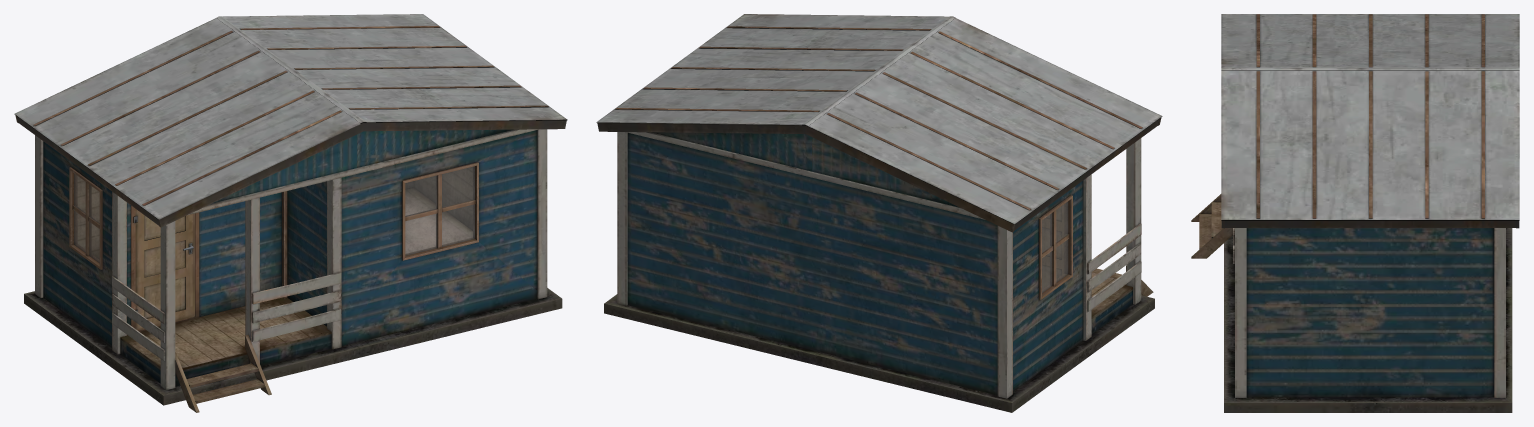
The model's file is shed_worn.glb.
3 views of the same model, side by side, from view 1: azimuth 30°, elevation 25°; view 2: azimuth 150°, elevation 25°; view 3: azimuth 270°, elevation 25° (orthographic). The views are drawn at different scales.
Parts seen in each view (by area): view 1: baked, clear; view 2: baked, clear; view 3: baked.
Boxes of the visible parts, left/top/right/bottom form: baked: left=14, top=14, right=567, bottom=412; clear: left=74, top=166, right=474, bottom=262; baked: left=596, top=14, right=1162, bottom=412; clear: left=1042, top=201, right=1068, bottom=293; baked: left=1191, top=14, right=1519, bottom=412.
Bounding box in the file's own units: 644 × 355 × 434.
Materials: 2 (2 with a texture image).
